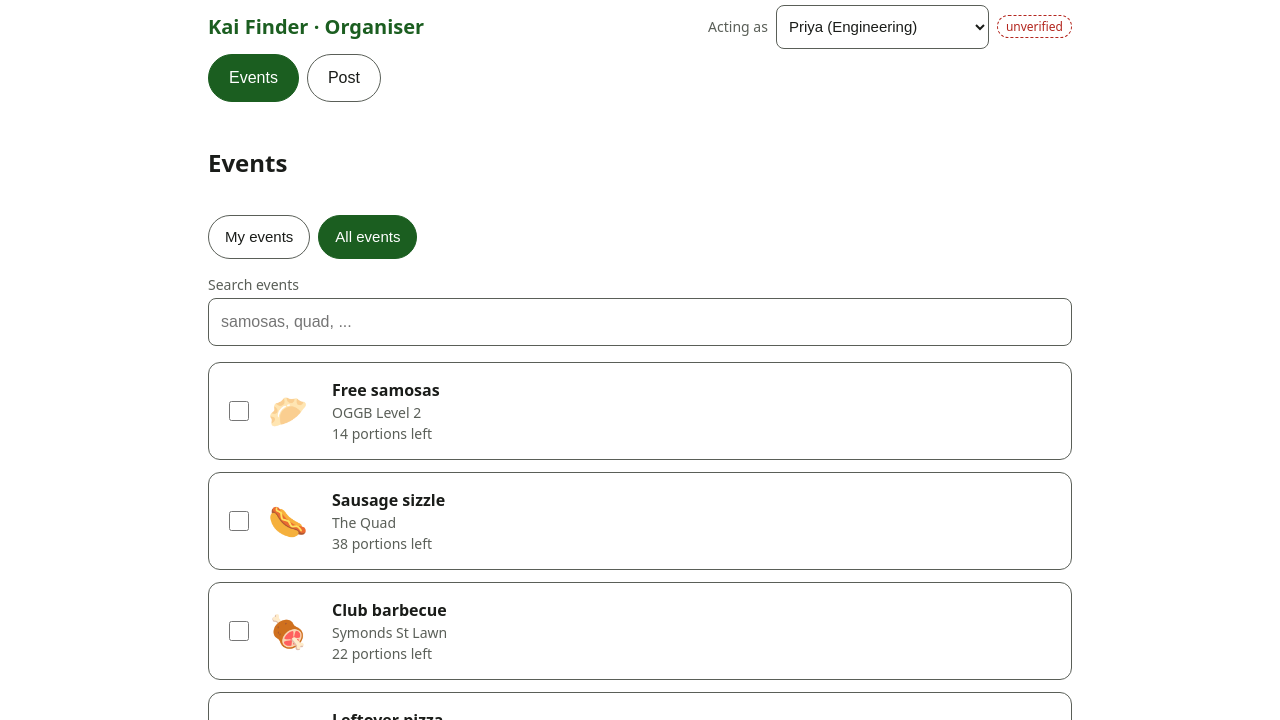
Scenario: selection › clears the whole selection at once
Check: the heading "Free samosas" is shown, box left=332, top=379, right=440, bottom=401
What coordinates should you click on to do the following:
click the checkbox named "Select Free samosas"
I would click on:
 (239, 411)
Its box is left=229, top=401, right=249, bottom=421.
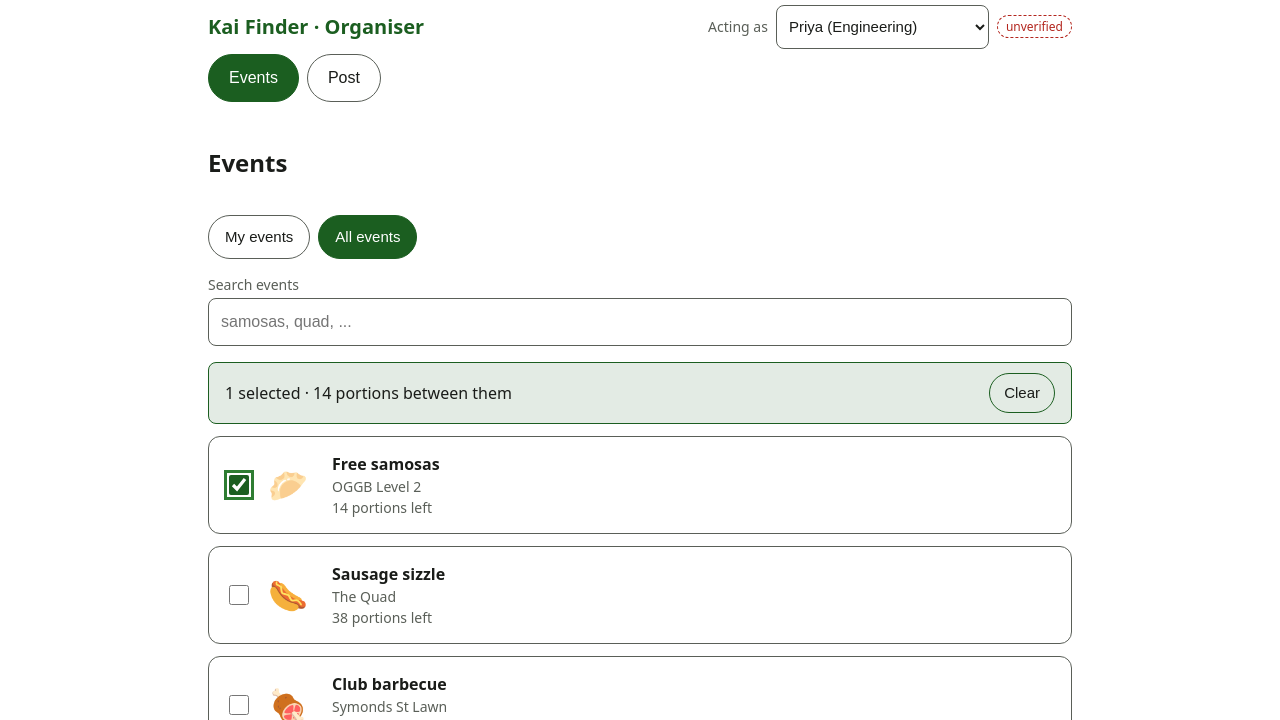
What coordinates should you click on to do the following:
click the checkbox named "Select Club barbecue"
I would click on:
 (239, 705)
Its box is left=229, top=695, right=249, bottom=715.
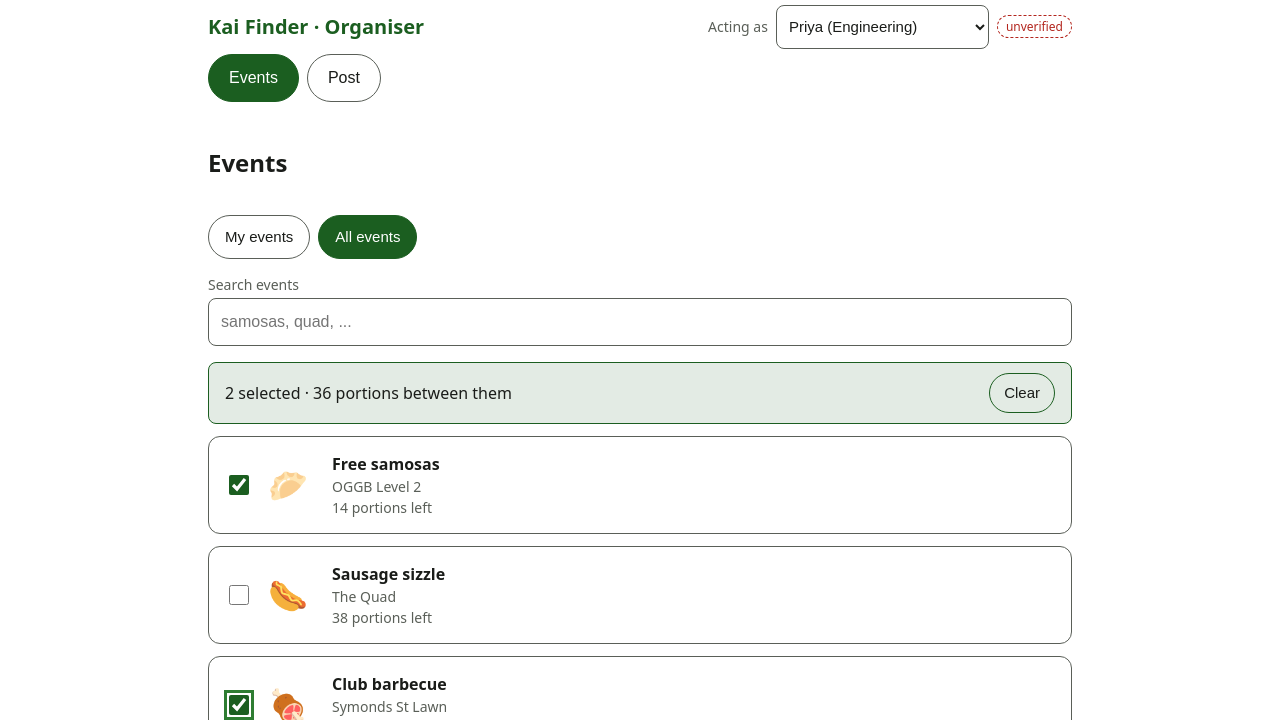
What coordinates should you click on to do the following:
click the button "Clear"
I would click on:
 (1022, 393)
Its box is left=989, top=373, right=1055, bottom=413.
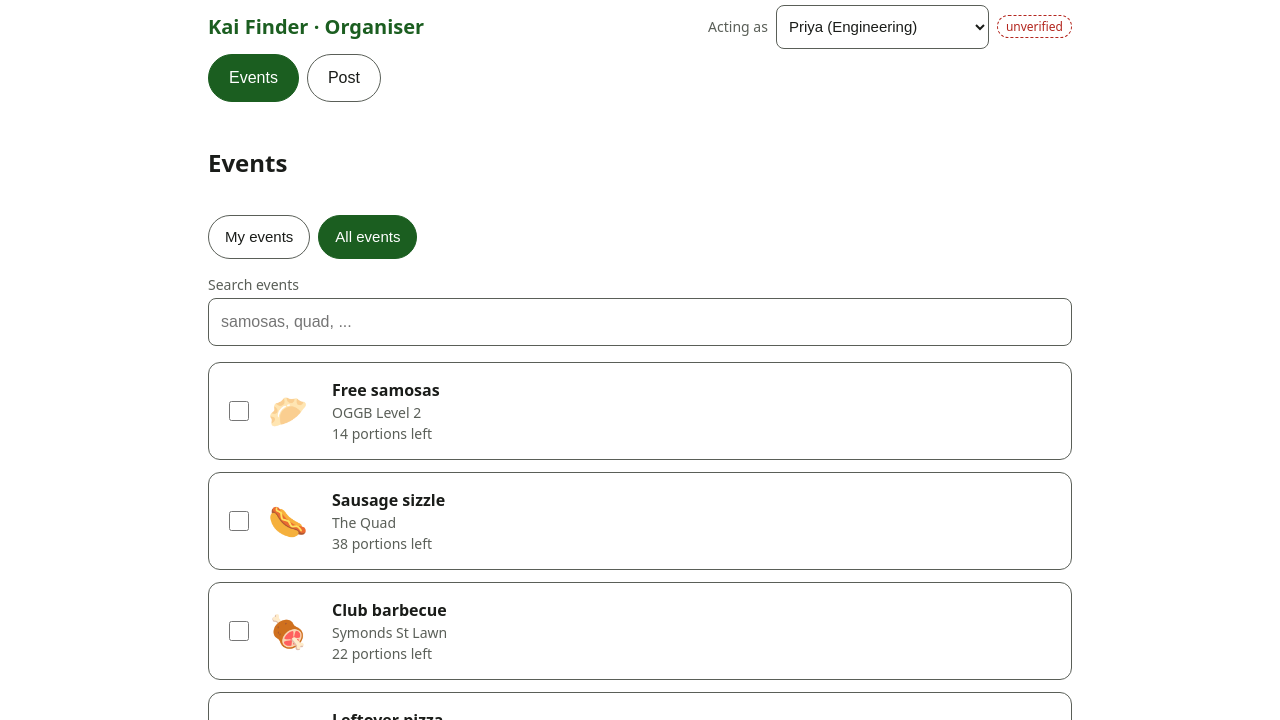
Check: the checkbox named "Select Free samosas" is not checked, box left=229, top=401, right=249, bottom=421
Check: the message "2 selected · 36 portions between them Clear" is gone
